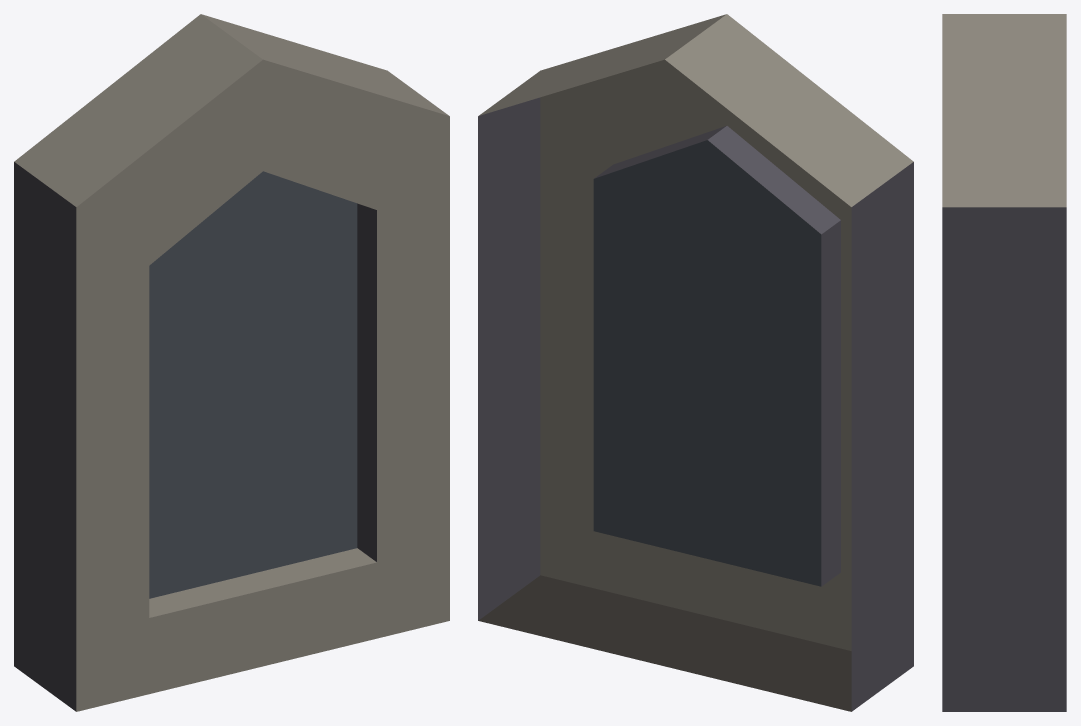
The model's file is TB_D_Bd_Window_Arch_C.FBX.
The picture shows the model from 3 angles, left to right: view 1: azimuth 30°, elevation 25°; view 2: azimuth 150°, elevation 25°; view 3: azimuth 270°, elevation 25°; orthographic projection.
Parts seen in each view (by area): view 1: TB_D_Bd_Window_Arch_C; view 2: TB_D_Bd_Window_Arch_C; view 3: TB_D_Bd_Window_Arch_C.
Part boxes in pixels (box(x1,y1,x2,y2)): TB_D_Bd_Window_Arch_C: box(14, 14, 449, 711); TB_D_Bd_Window_Arch_C: box(478, 14, 913, 711); TB_D_Bd_Window_Arch_C: box(942, 14, 1066, 711).
Size of the model in its own units: 0.7231 by 1.12 by 0.209.
